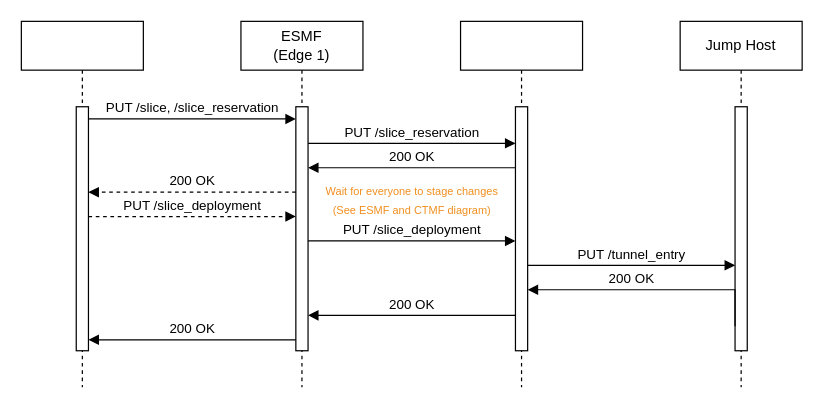
Some shapes in this 824 by 409 pixel diagram are drawn without their labels. Here are the shapes that lost their labels. From the top down, the box of each, then its label:
(20, 20, 143, 387): Host 1 or another ESMF
(459, 20, 583, 387): DSMF
